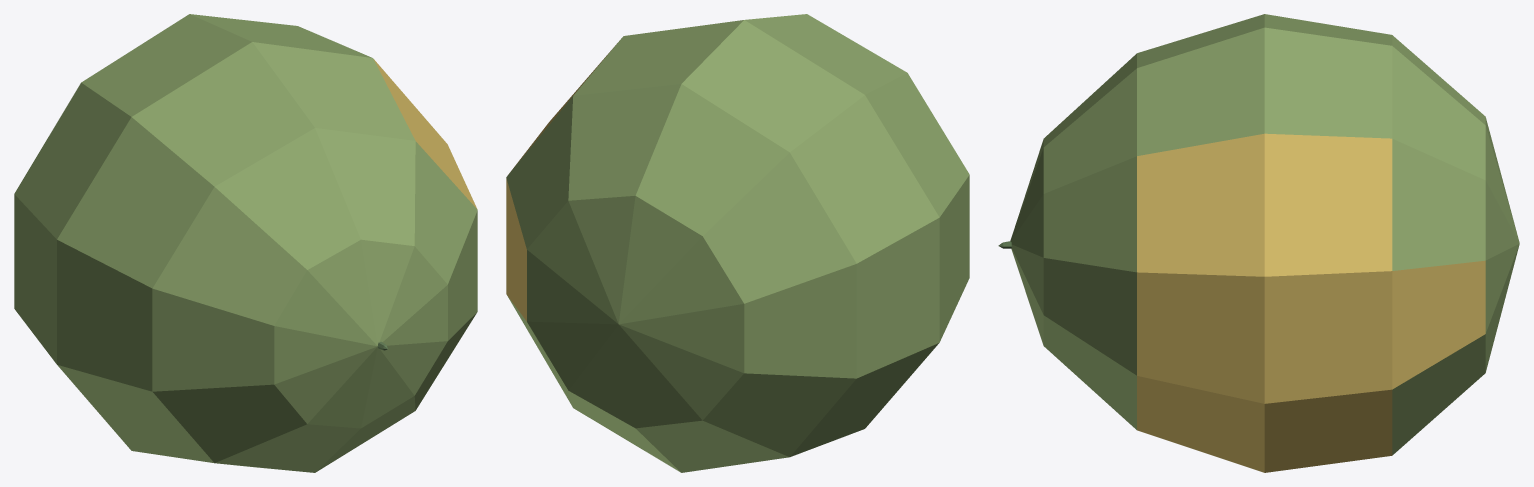
Rendered from pomelo.glb.
3 renders of one model, left to right at view 1: azimuth 30°, elevation 25°; view 2: azimuth 150°, elevation 25°; view 3: azimuth 270°, elevation 25°, orthographic.
Parts seen in each view (by area): view 1: pomelo; view 2: pomelo; view 3: pomelo.
Part boxes in pixels (x1,y1,x2,y2): pomelo: (14, 14, 477, 472); pomelo: (506, 14, 969, 472); pomelo: (998, 14, 1519, 472).
Size of the model in its own units: 0.1617 by 0.1681 by 0.184.
